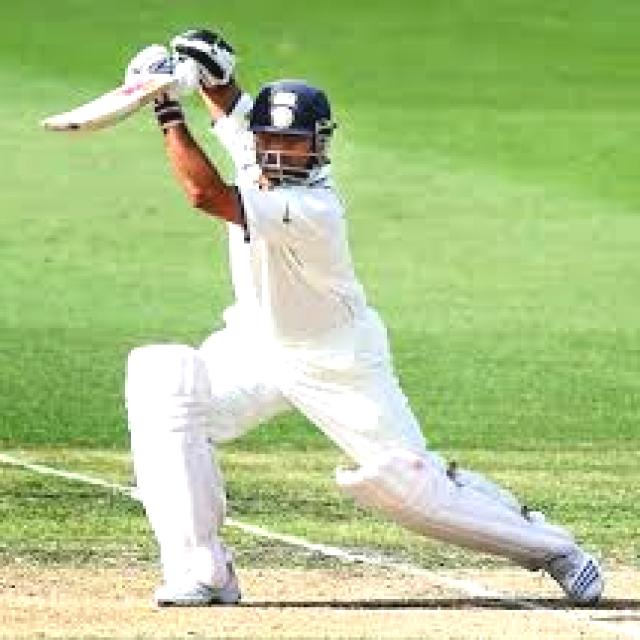toe: (38, 98, 107, 145)
